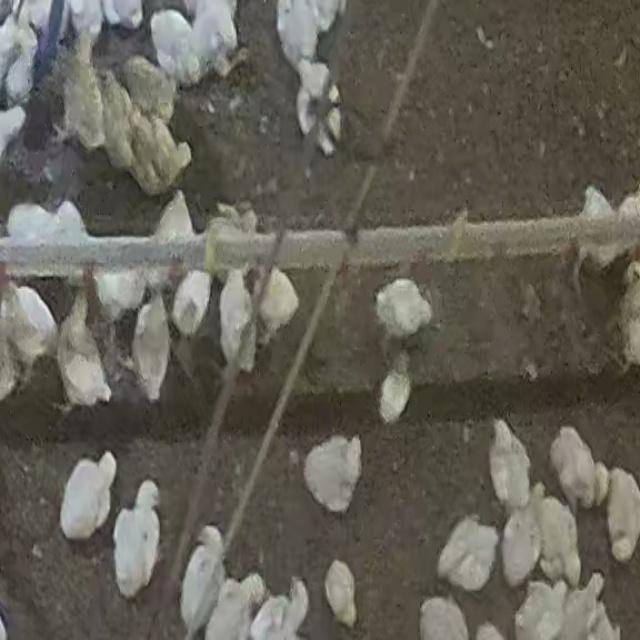chicken: (55, 293, 113, 410), (125, 110, 192, 196), (62, 35, 106, 152), (59, 450, 115, 541), (113, 496, 161, 600), (180, 528, 226, 636), (437, 515, 499, 593), (303, 435, 362, 516), (205, 199, 262, 280), (2, 281, 52, 370), (152, 188, 196, 288), (294, 58, 340, 150), (549, 426, 598, 512), (96, 69, 139, 167), (132, 296, 171, 402), (536, 490, 578, 586), (246, 576, 311, 638), (488, 420, 532, 510), (147, 7, 198, 83), (579, 190, 625, 273), (218, 269, 256, 369), (189, 0, 239, 75), (376, 274, 433, 339), (500, 498, 541, 588), (125, 55, 178, 122), (201, 577, 259, 638), (605, 468, 640, 564), (516, 576, 569, 639), (257, 268, 299, 343), (277, 1, 321, 66), (563, 571, 604, 640), (172, 269, 212, 335), (616, 265, 640, 372), (324, 557, 360, 624), (379, 360, 412, 425)
